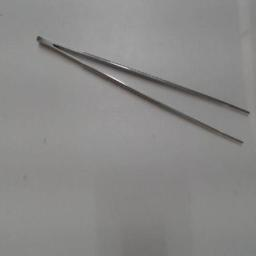DeBakey Dissector: (20, 24, 254, 150)
